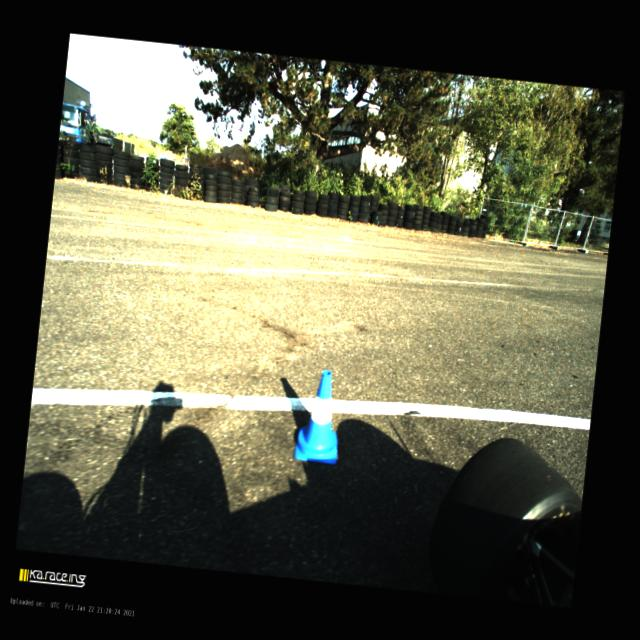blue_cone: (294, 368, 346, 464)
